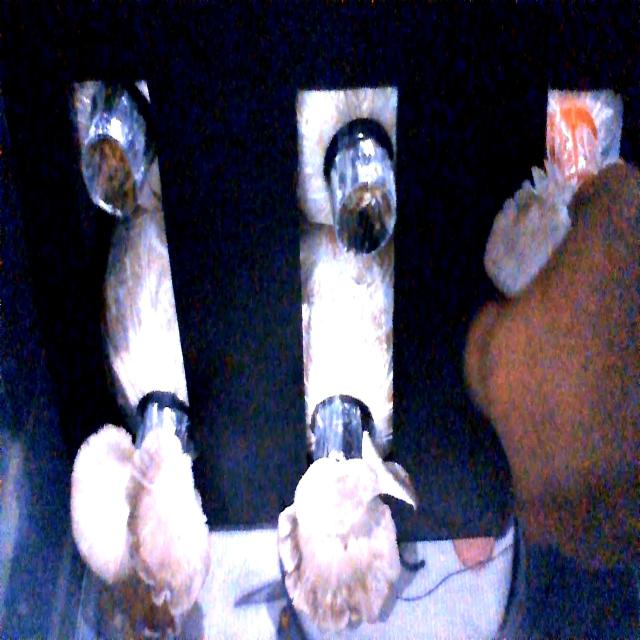big: (276, 433, 415, 629), (76, 424, 204, 606)
nfound: (325, 165, 405, 262), (79, 134, 143, 218)
